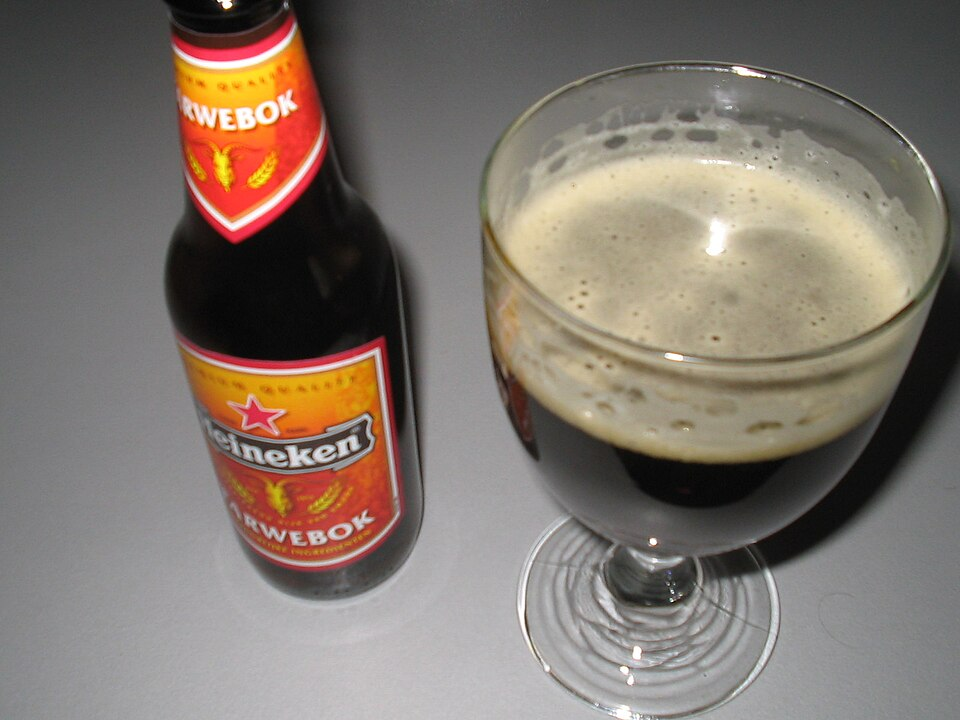beer-bottle: (149, 1, 430, 609)
